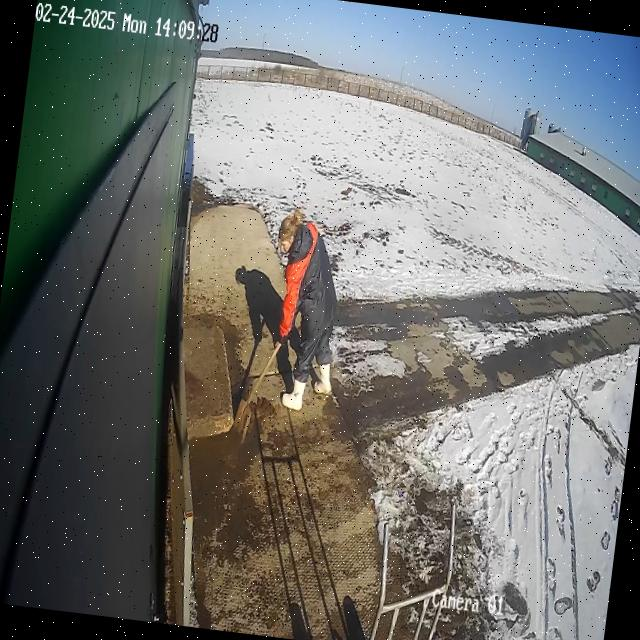Red uniform: (255, 207, 354, 416)
